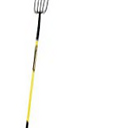Fork: (20, 1, 58, 128)
